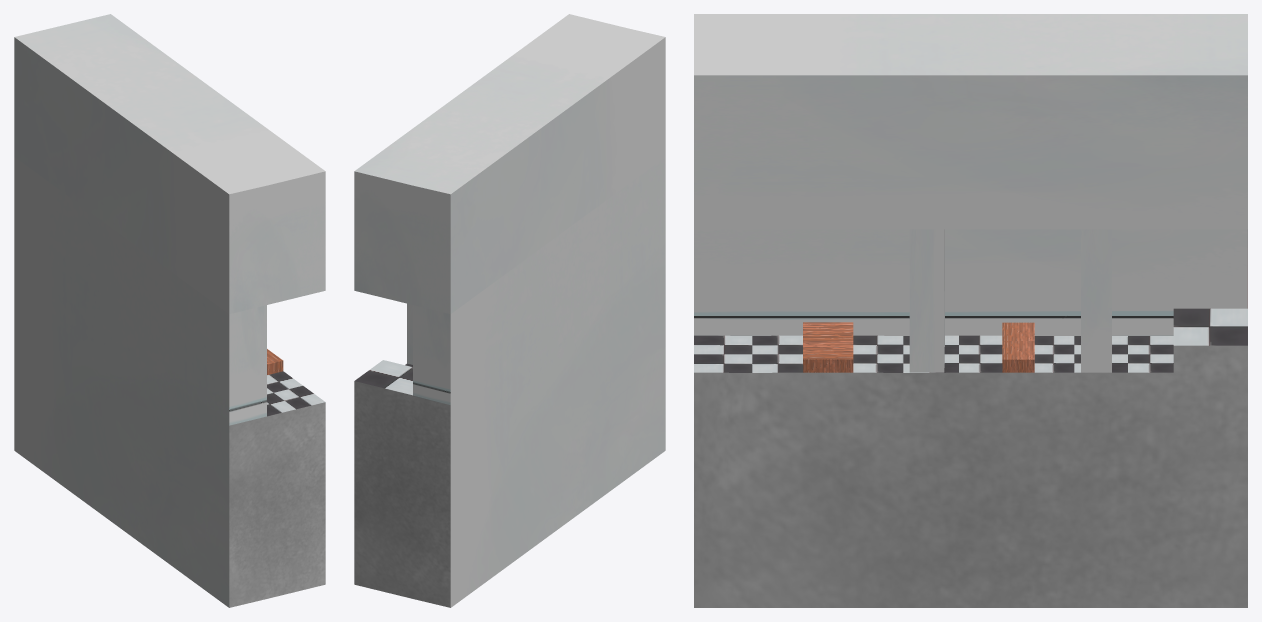
Rendered from storage.fbx.
3 views of the same model, side by side, from view 1: azimuth 30°, elevation 25°; view 2: azimuth 150°, elevation 25°; view 3: azimuth 270°, elevation 25° (orthographic). The views are drawn at different scales.
Visible parts, largest first — view 1: storageOffic; view 2: storageOffic; view 3: storageOffic.
Part boxes in pixels (x1,y1,x2,y2): storageOffic: [14, 14, 325, 607]; storageOffic: [354, 14, 665, 607]; storageOffic: [694, 14, 1247, 607].
Bounding box in the file's own units: 2575 × 10554 × 9934.
1 material, 1 textured.
